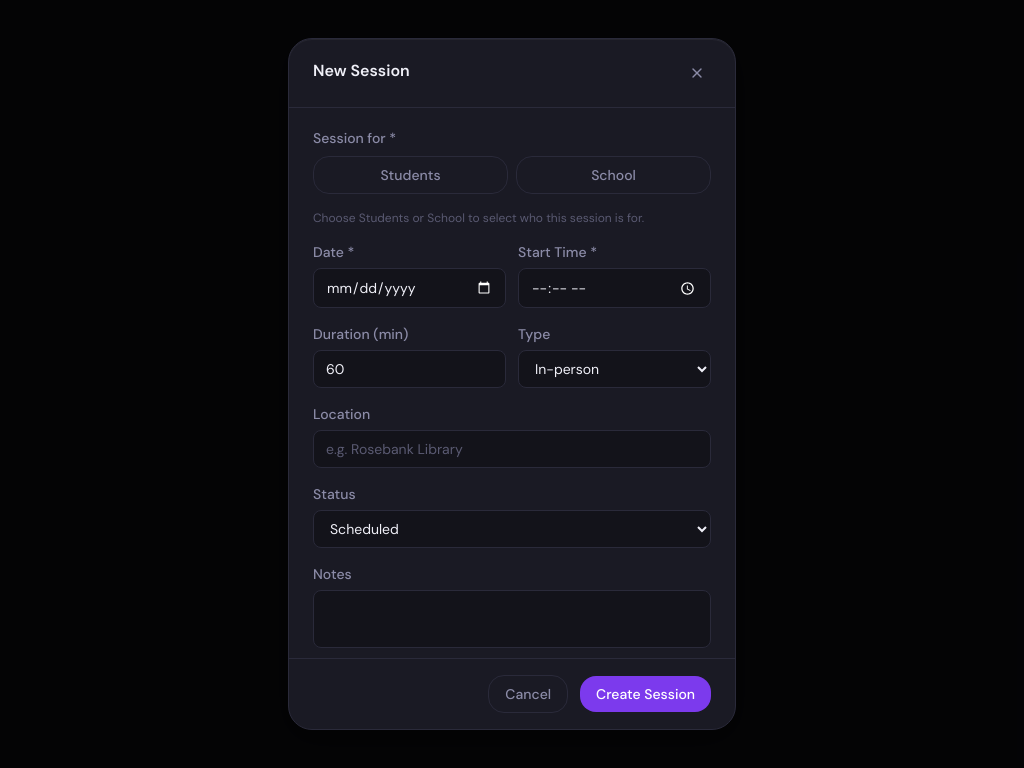
Scenario: SessionModal scheduling categories › keeps new sessions restricted to current or future dates
Click the button "Students" at (410, 175), box [313,156,508,194]
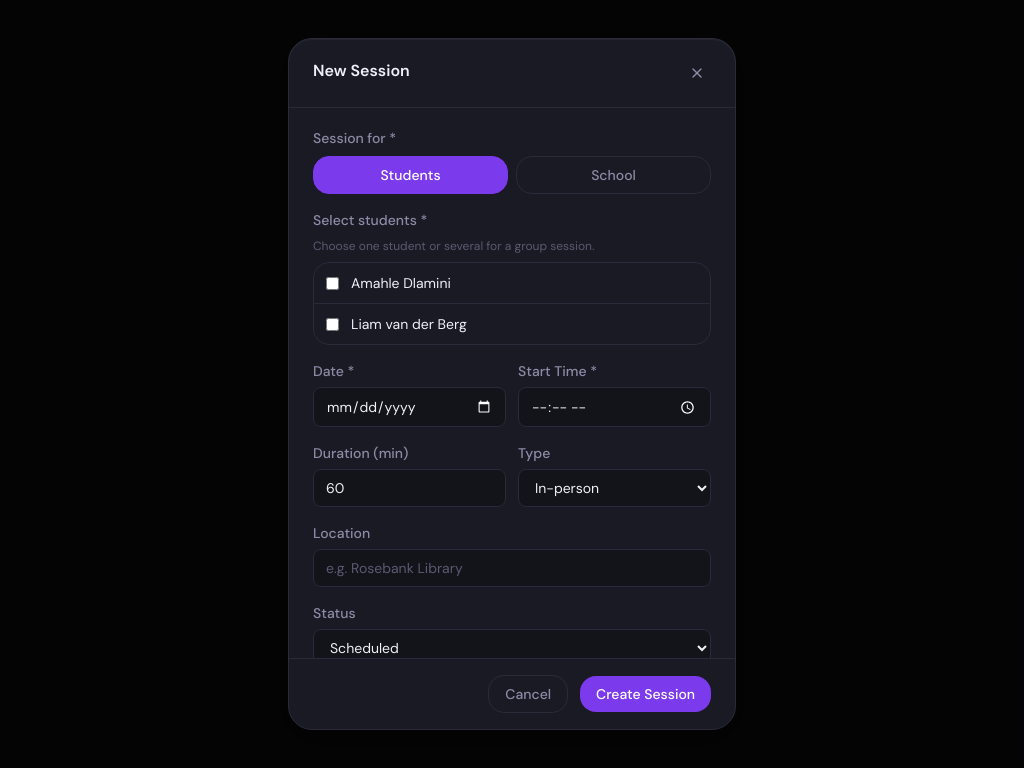
Click the checkbox labelled "Amahle Dlamini" at (332, 283), box [326,277,339,290]
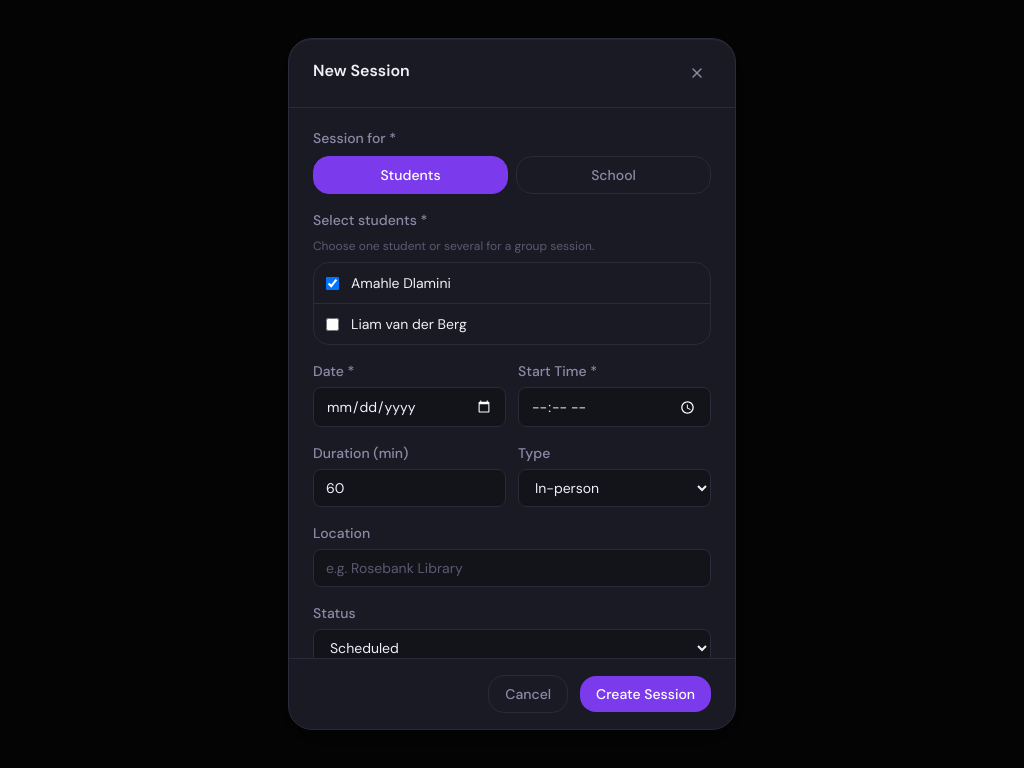
Type "2020-01-10" into the date field at (410, 407), box [313,387,506,427]
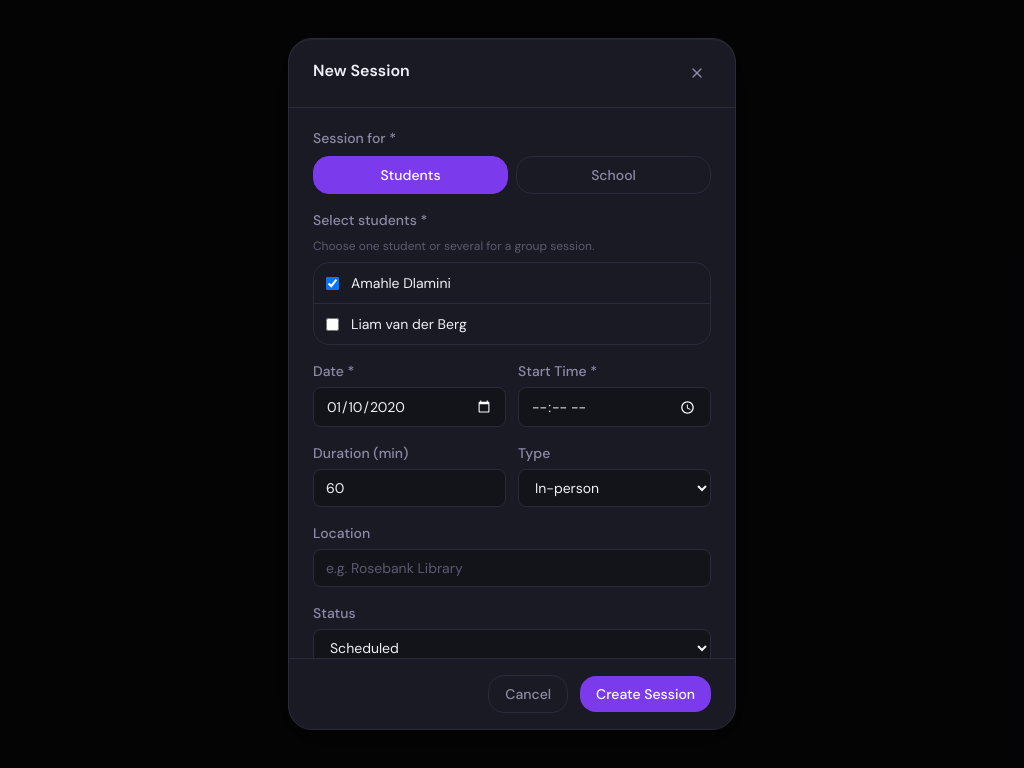
Type "10:00" into the time field at (614, 407), box [518,387,711,427]
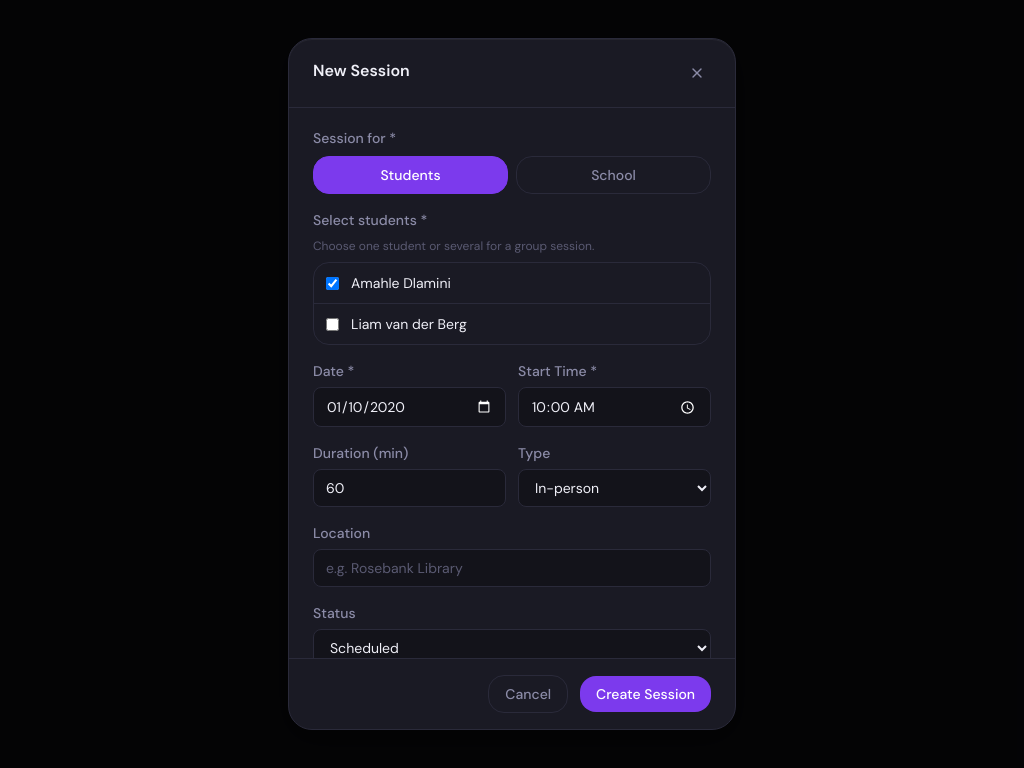
Click the button "Create Session" at (646, 694), box [580,676,711,712]
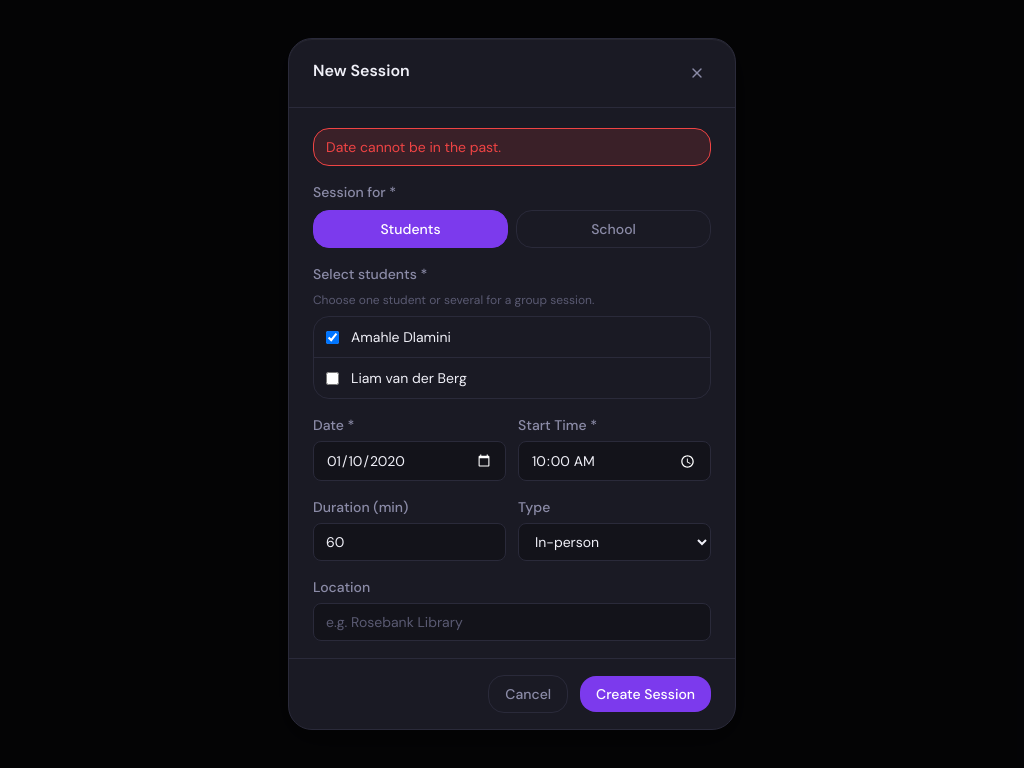
Expected: the message reads "Date cannot be in the past.", [326,138,501,156]
